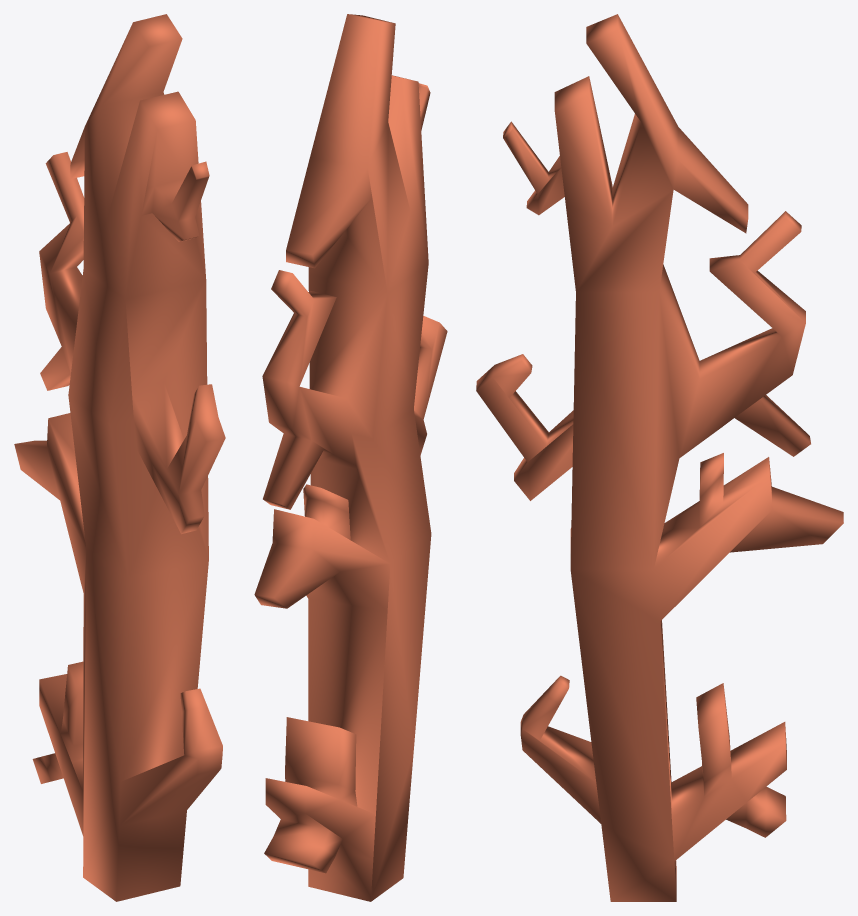
Rendered from Coral2.glb.
3 views of the same model, side by side, from view 1: azimuth 30°, elevation 25°; view 2: azimuth 150°, elevation 25°; view 3: azimuth 270°, elevation 25° (orthographic). The views are drawn at different scales.
Visible parts, largest first — view 1: Cube.001; view 2: Cube.001; view 3: Cube.001.
Boxes of the visible parts, box(x1,y1,x2,y2) form: Cube.001: box(14, 14, 225, 901); Cube.001: box(254, 14, 447, 901); Cube.001: box(476, 14, 843, 901).
Bounding box in the file's own units: 0.6 × 6.2 × 2.38.
